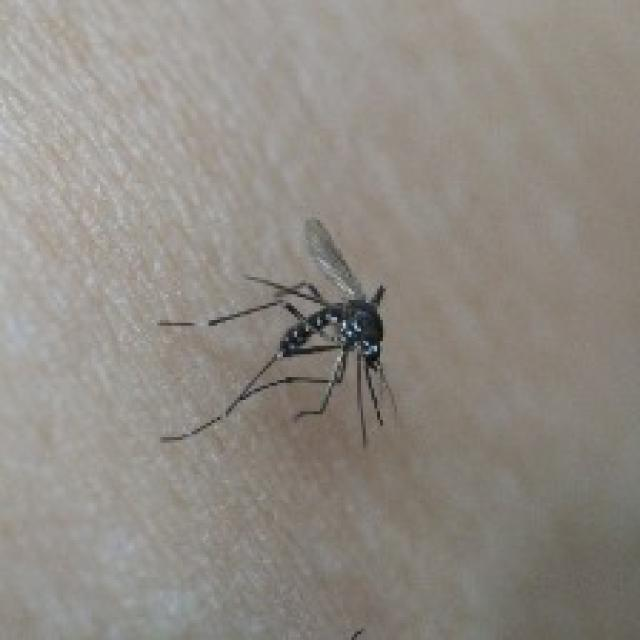aedes: (154, 214, 400, 449)
